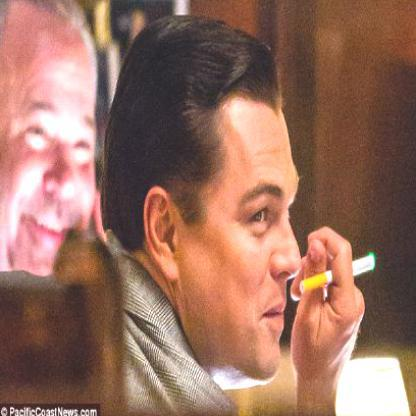cigarette: (299, 255, 378, 300)
person: (68, 23, 312, 415), (0, 1, 113, 306)
